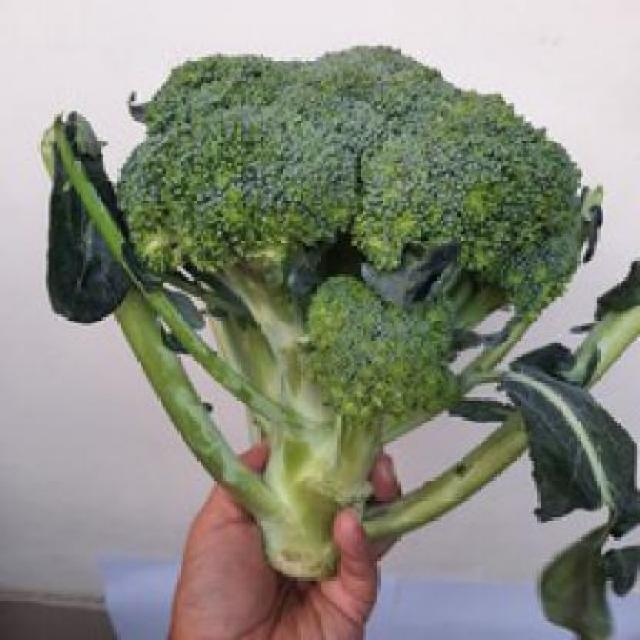broccoli: (54, 66, 583, 568)
